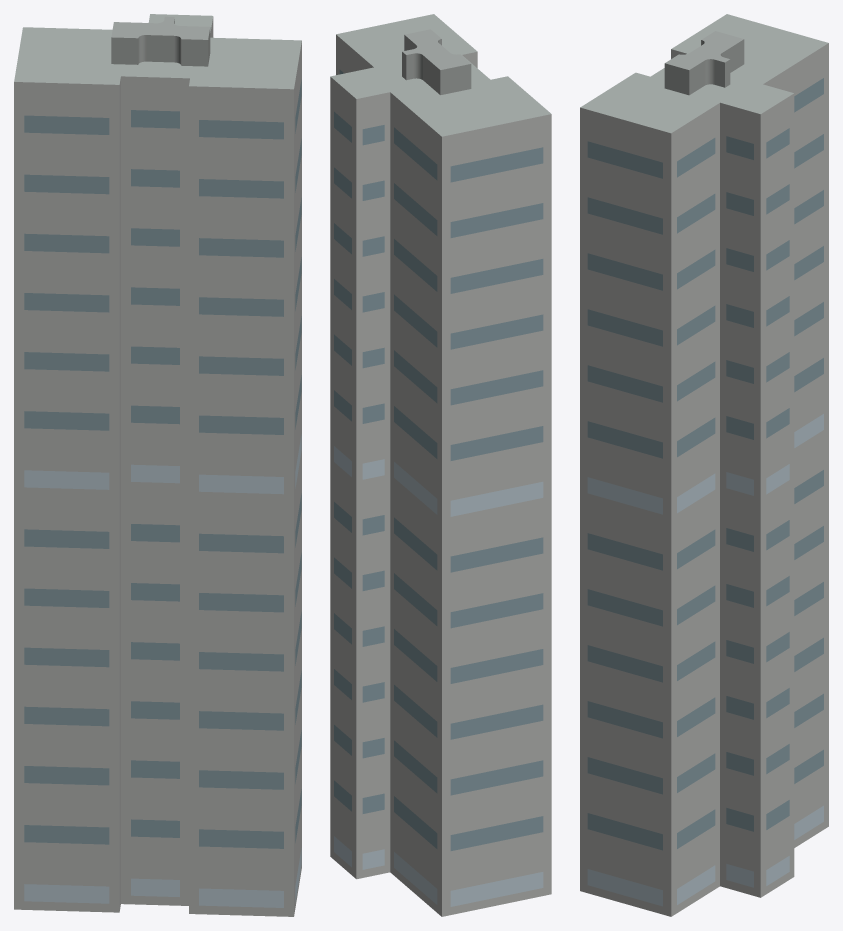
File: fallback-lake-palace-102.glb
3 renders of one model, left to right at view 1: azimuth 30°, elevation 25°; view 2: azimuth 150°, elevation 25°; view 3: azimuth 270°, elevation 25°, orthographic. The views are drawn at different scales.
Parts seen in each view (by area): view 1: fallback-lake-palace-102; view 2: fallback-lake-palace-102; view 3: fallback-lake-palace-102.
Boxes of the visible parts, left/top/right/bottom form: fallback-lake-palace-102: left=14, top=14, right=301, bottom=916; fallback-lake-palace-102: left=330, top=14, right=551, bottom=916; fallback-lake-palace-102: left=580, top=14, right=828, bottom=916.
Size of the model in its own units: 24.37 by 77 by 21.46.
